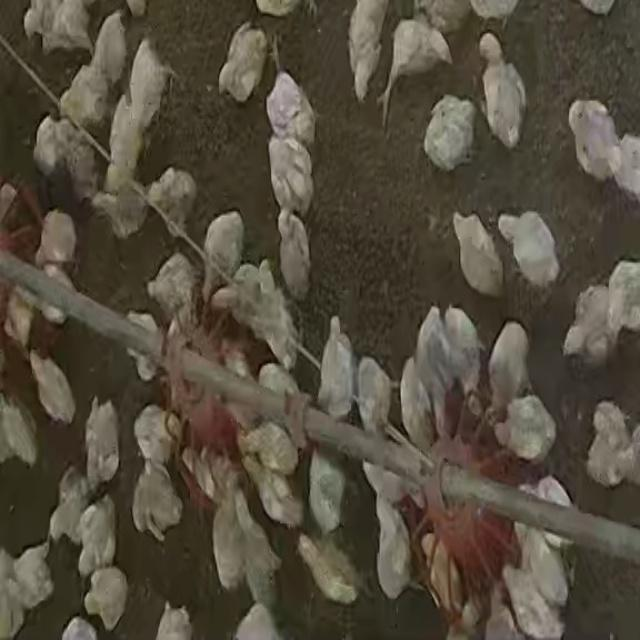chicken: (58, 10, 133, 136), (212, 481, 282, 599), (230, 258, 300, 373), (378, 16, 450, 122), (122, 34, 178, 150), (32, 113, 98, 209), (368, 476, 416, 600), (476, 31, 526, 150), (496, 210, 559, 294), (514, 517, 573, 606), (484, 318, 532, 426), (585, 399, 639, 490), (450, 213, 505, 302), (295, 530, 359, 606), (446, 309, 488, 424), (560, 283, 618, 366), (567, 98, 622, 184), (346, 2, 392, 104), (423, 94, 478, 174), (505, 567, 564, 640), (496, 393, 556, 464), (22, 2, 98, 58), (130, 461, 180, 545), (316, 317, 356, 422), (146, 250, 200, 327), (89, 178, 150, 244), (523, 477, 577, 548), (201, 211, 246, 296), (216, 26, 269, 98), (29, 346, 76, 426), (49, 469, 95, 550), (306, 448, 348, 536), (211, 495, 249, 591), (76, 496, 119, 580), (83, 397, 122, 488), (417, 530, 461, 610), (254, 459, 304, 529), (145, 166, 198, 232), (34, 208, 80, 282), (421, 306, 452, 415), (276, 214, 315, 300), (10, 542, 56, 612), (268, 140, 310, 214), (269, 71, 312, 141), (365, 456, 415, 515), (133, 402, 175, 472), (356, 355, 391, 436), (83, 565, 128, 628), (1, 394, 40, 466), (605, 259, 640, 339), (126, 311, 166, 381), (184, 449, 237, 498), (403, 362, 432, 449), (248, 423, 300, 471), (483, 584, 527, 640), (610, 137, 640, 199), (153, 603, 192, 639)
